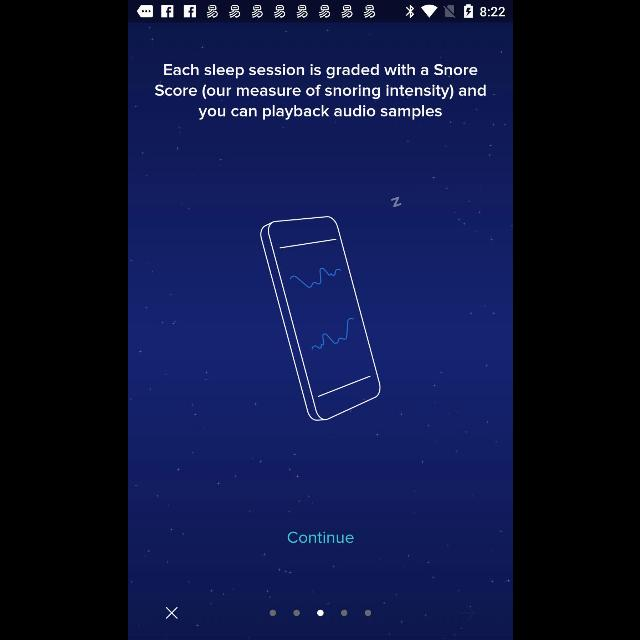icon: (165, 606, 178, 620)
image: (260, 216, 380, 422)
pageindicator: (268, 609, 372, 617)
text: (154, 64, 486, 120), (287, 530, 353, 544)
uppertaskbar: (128, 1, 512, 23)
